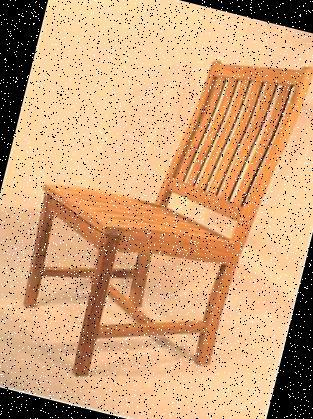Silla: (4, 11, 312, 413)
